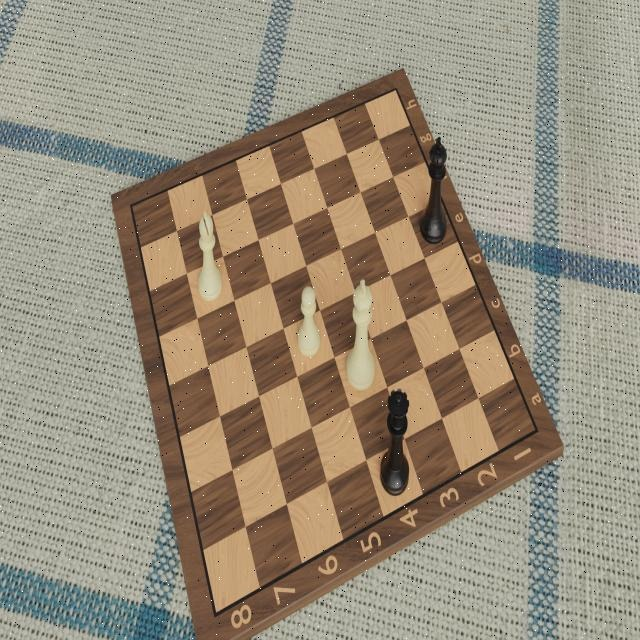black-king: (418, 134, 448, 246)
black-queen: (379, 386, 410, 498)
white-bishop: (196, 209, 224, 303)
white-king: (345, 278, 376, 393)
white-pawn: (296, 283, 322, 358)
